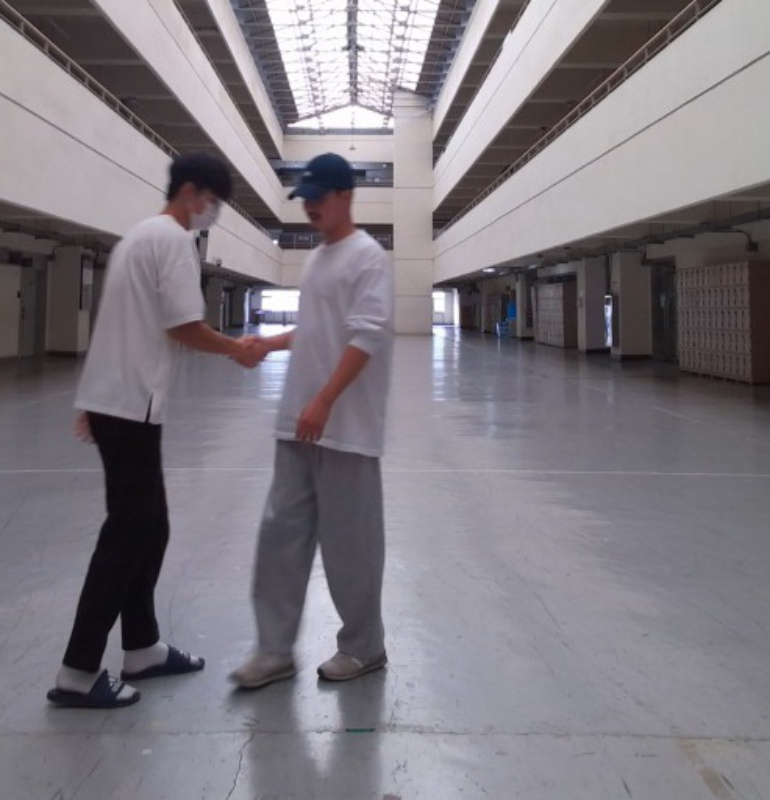person: (226, 150, 393, 688)
